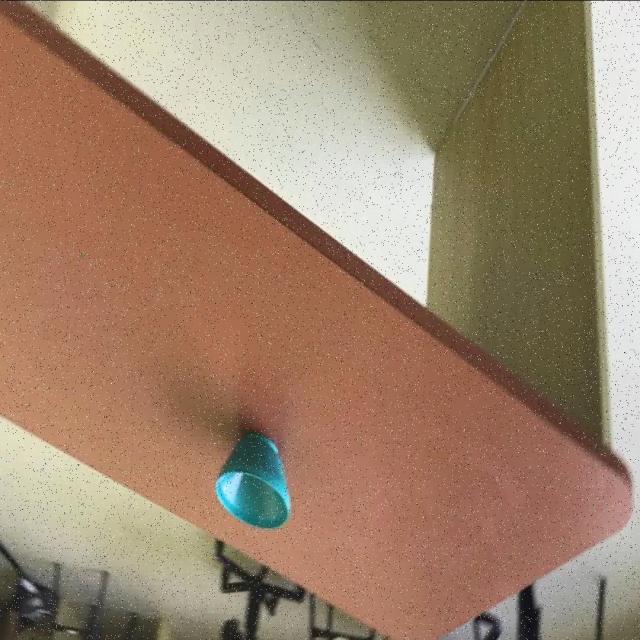Bowl: (0, 0, 632, 638), (214, 429, 291, 529)
